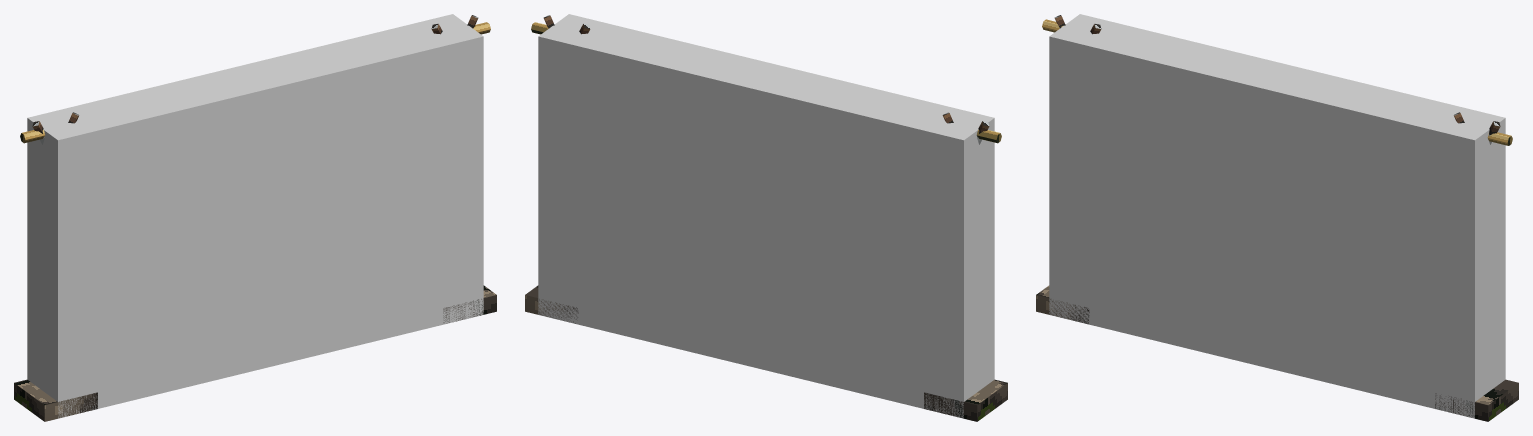
The model's file is JP_Prop_LaundryPole_A.glb.
3 views of the same model, side by side, from view 1: azimuth 30°, elevation 25°; view 2: azimuth 150°, elevation 25°; view 3: azimuth 330°, elevation 25° (orthographic).
Visible parts, largest first — view 1: COL_JP_Prop_LaundryPole_A, JP_Prop_LaundryPole_A; view 2: COL_JP_Prop_LaundryPole_A, JP_Prop_LaundryPole_A; view 3: COL_JP_Prop_LaundryPole_A, JP_Prop_LaundryPole_A.
Part boxes in pixels (x1,y1,x2,y2): COL_JP_Prop_LaundryPole_A: (27,14,483,418); JP_Prop_LaundryPole_A: (14,15,496,421); COL_JP_Prop_LaundryPole_A: (538,14,994,418); JP_Prop_LaundryPole_A: (525,15,1007,421); COL_JP_Prop_LaundryPole_A: (1049,14,1505,418); JP_Prop_LaundryPole_A: (1036,15,1518,421).
Bounding box in the file's own units: 3.5 × 2.06 × 0.4.
Materials: 3 (3 with a texture image).
